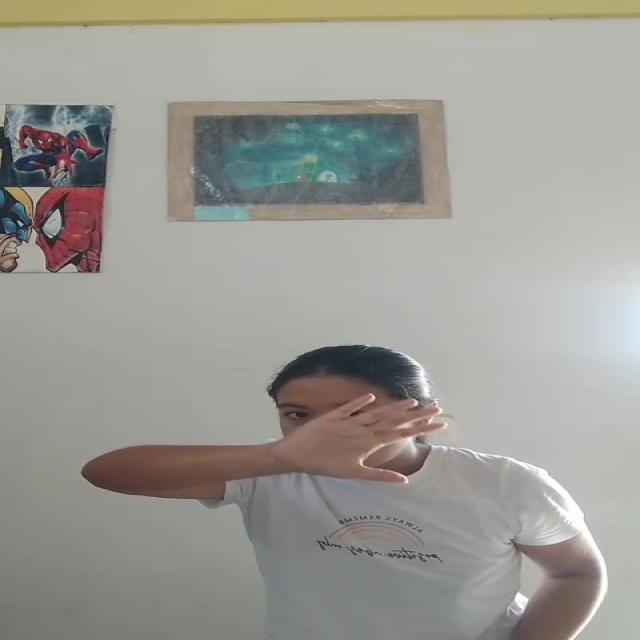7_mano_rostro: (254, 390, 441, 482)
